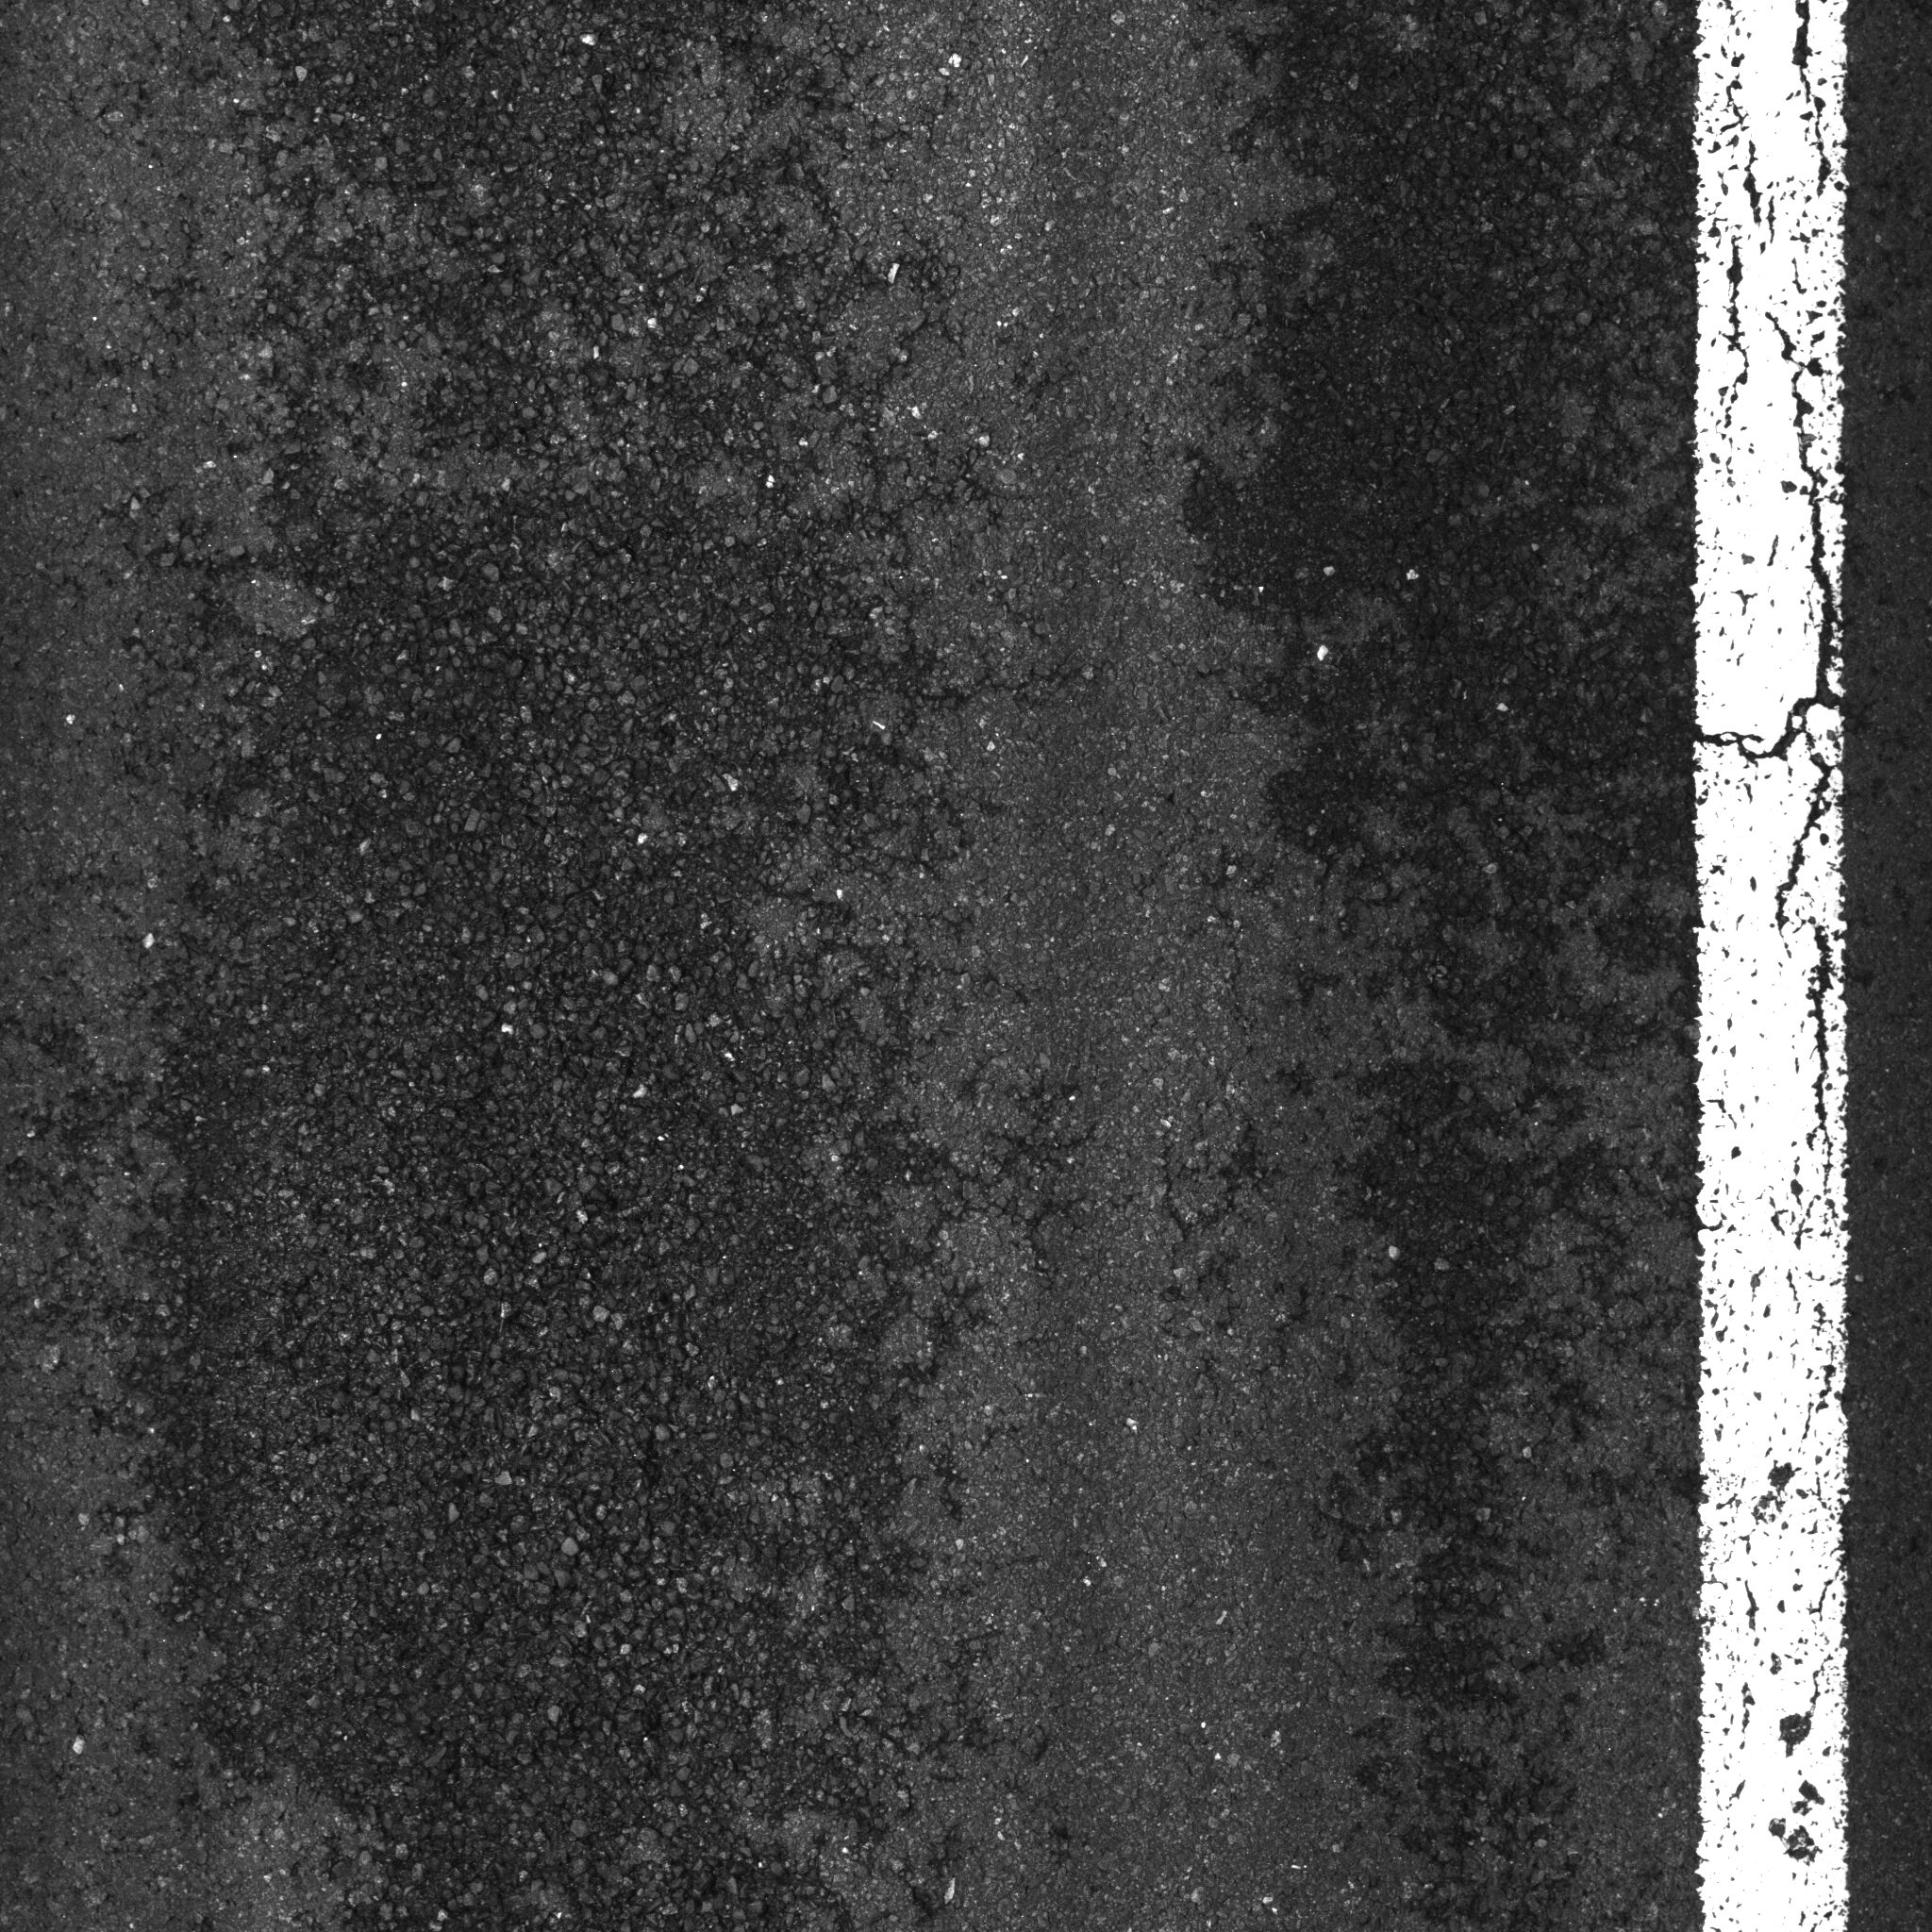alligator: (85, 5, 1005, 1932), (1152, 21, 1828, 1932)
